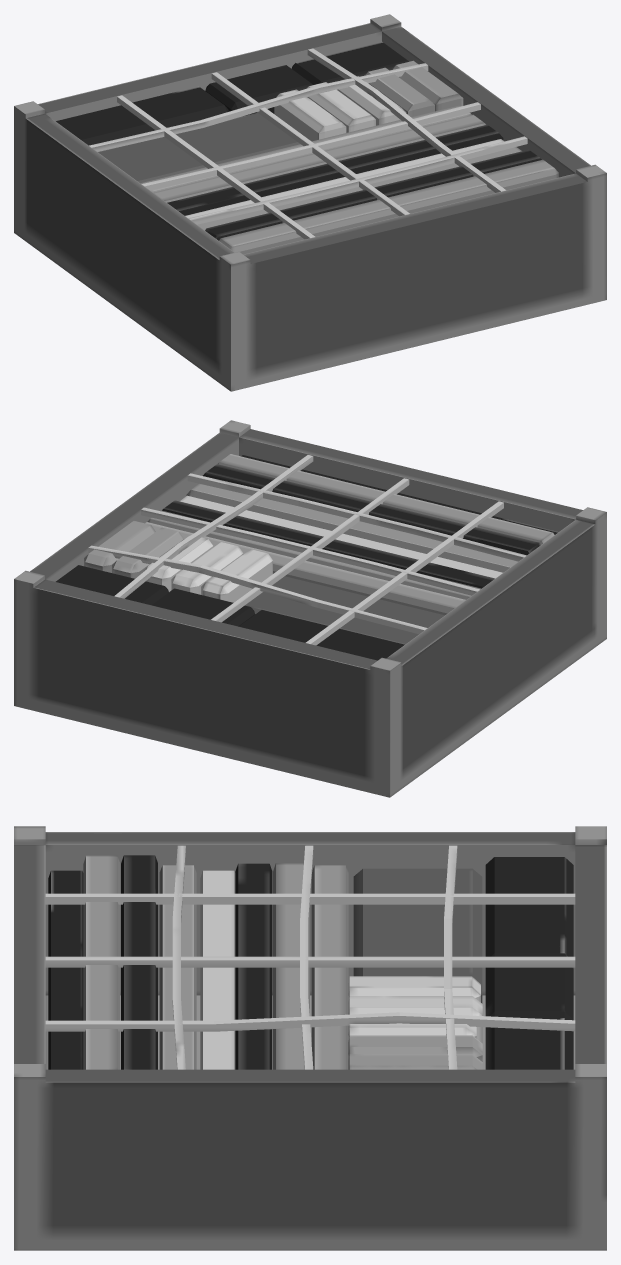
Rendered from Storage_A.fbx.
3 renders of one model, top to bottom at view 1: azimuth 30°, elevation 25°; view 2: azimuth 150°, elevation 25°; view 3: azimuth 270°, elevation 25°, orthographic. The views are drawn at different scales.
Parts seen in each view (by area): view 1: Storage_A; view 2: Storage_A; view 3: Storage_A.
Boxes of the visible parts, x1,y1,x2,y2 form: Storage_A: (14,14,606,391); Storage_A: (14,420,606,797); Storage_A: (14,826,606,1250).
Bounding box in the file's own units: 200 × 65.38 × 200.
